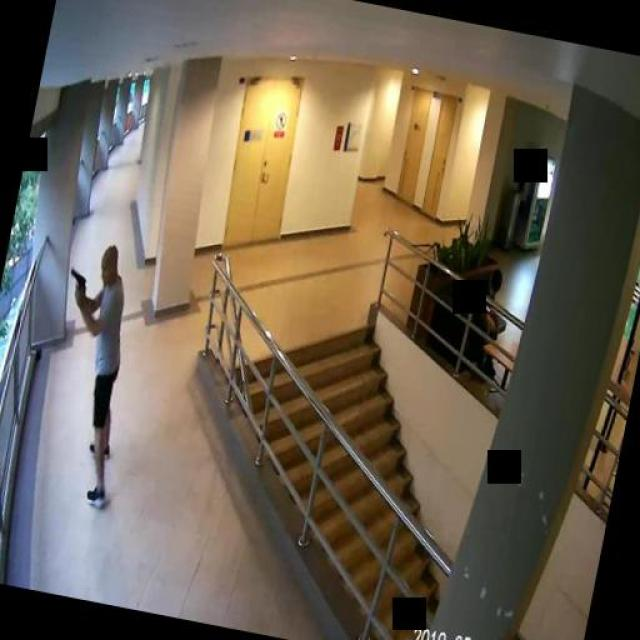gun: (65, 266, 87, 300)
